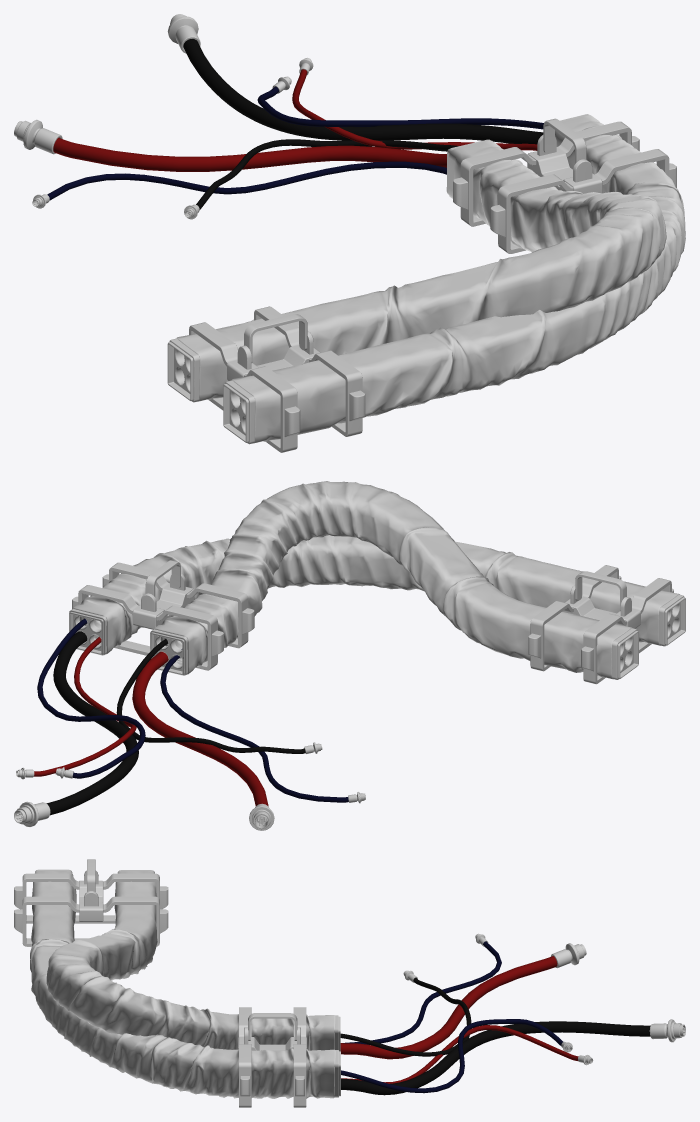
Rendered from SM_Wire02_CornerStyle02.FBX.
3 renders of one model, top to bottom at view 1: azimuth 30°, elevation 25°; view 2: azimuth 150°, elevation 25°; view 3: azimuth 270°, elevation 25°, orthographic. The views are drawn at different scales.
Parts seen in each view (by area): view 1: SM_Wire02_CornerStyle02; view 2: SM_Wire02_CornerStyle02; view 3: SM_Wire02_CornerStyle02.
Boxes of the visible parts, <box> form: SM_Wire02_CornerStyle02: <box>14,14,685,452</box>; SM_Wire02_CornerStyle02: <box>14,481,685,830</box>; SM_Wire02_CornerStyle02: <box>14,859,685,1107</box>.
Bounding box in the file's own units: 157 × 218 × 30.17.
